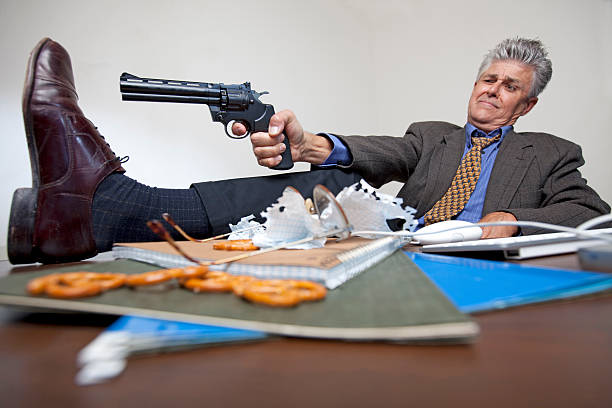gun: (120, 69, 295, 172)
